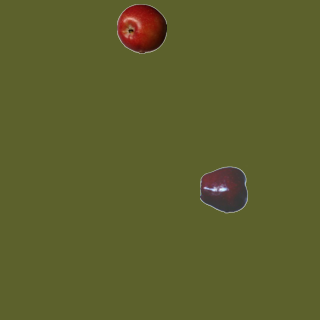Apple Braeburn: (116, 3, 166, 53)
Apple Red Delicious: (199, 164, 249, 214)
